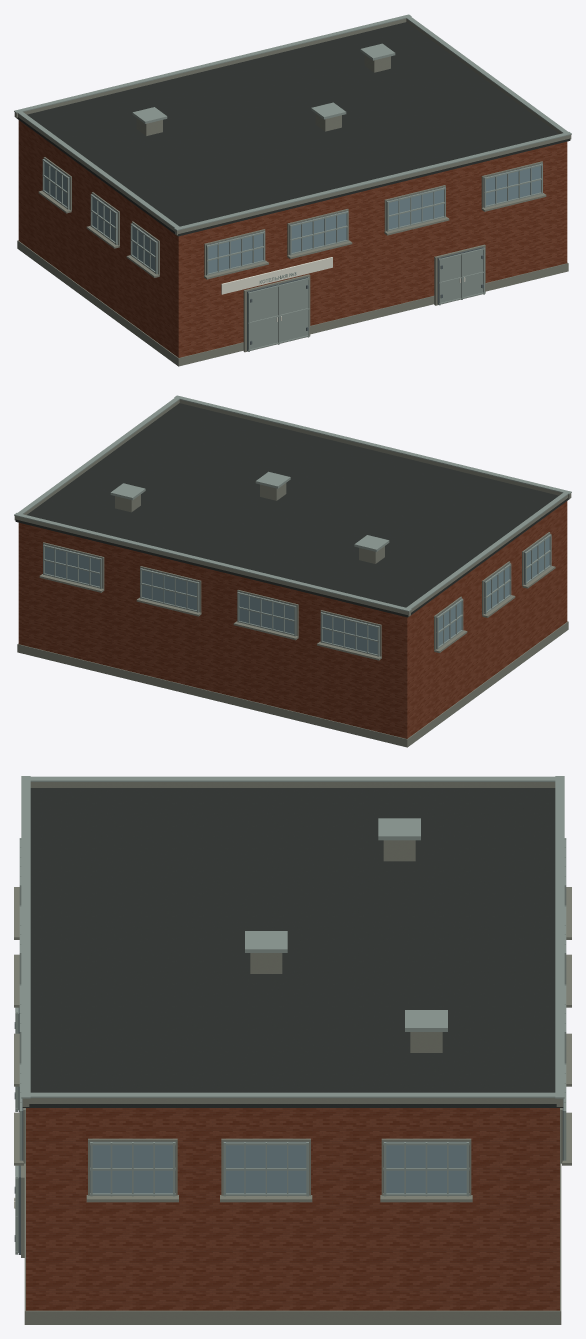
The model's file is boiler_house.glb.
3 renders of one model, top to bottom at view 1: azimuth 30°, elevation 25°; view 2: azimuth 150°, elevation 25°; view 3: azimuth 270°, elevation 25°, orthographic. The views are drawn at different scales.
Parts seen in each view (by area): view 1: boiler_house; view 2: boiler_house; view 3: boiler_house.
Part boxes in pixels (x1,y1,x2,y2): boiler_house: (14, 14, 571, 366); boiler_house: (14, 395, 571, 747); boiler_house: (14, 776, 571, 1324).
Bounding box in the file's own units: 28.9 × 10.34 × 20.9.
7 materials, 3 textured.
